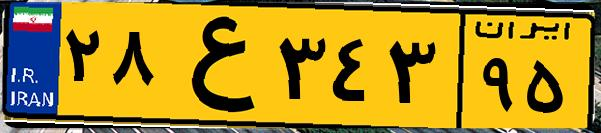2: (57, 26, 110, 100)
3: (270, 28, 330, 110), (385, 28, 445, 110)
4: (330, 28, 385, 110)
5: (525, 38, 570, 115)
8: (110, 28, 158, 98)
9: (475, 38, 525, 113)
ع: (158, 12, 270, 120)
